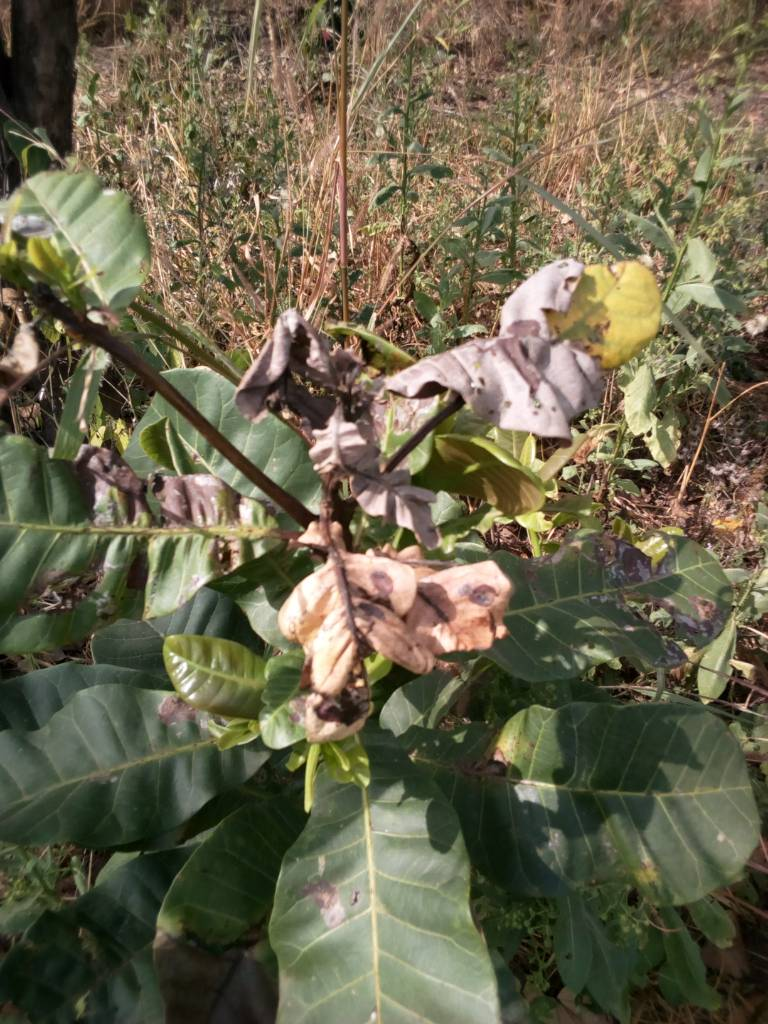Dessèchement des bourgeons: (313, 411, 443, 546), (238, 310, 361, 427)
